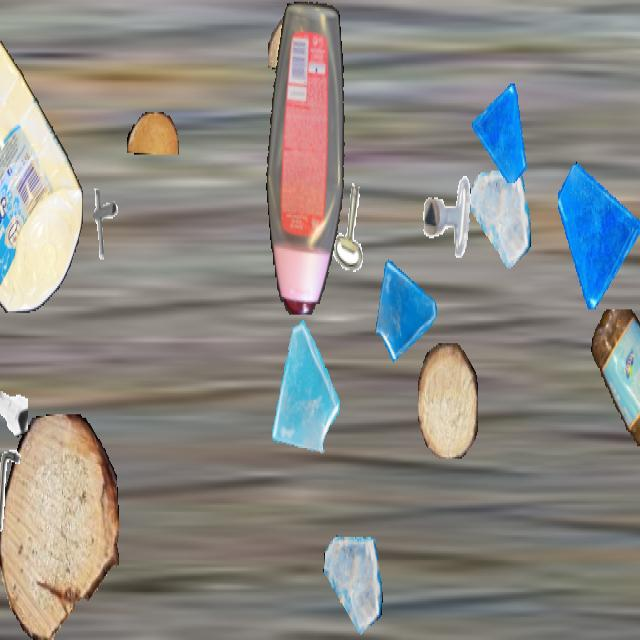glass: (558, 158, 640, 308), (261, 318, 341, 461), (373, 249, 439, 366), (470, 165, 530, 272), (323, 532, 383, 638), (472, 82, 528, 181)
metal: (325, 178, 381, 277), (422, 172, 474, 265), (0, 442, 37, 538), (81, 183, 125, 261), (0, 340, 28, 442)
plastic: (265, 2, 349, 314), (0, 2, 83, 311), (588, 310, 640, 483)
wood: (0, 414, 118, 638), (418, 343, 478, 457), (268, 16, 342, 73), (127, 112, 179, 155)
